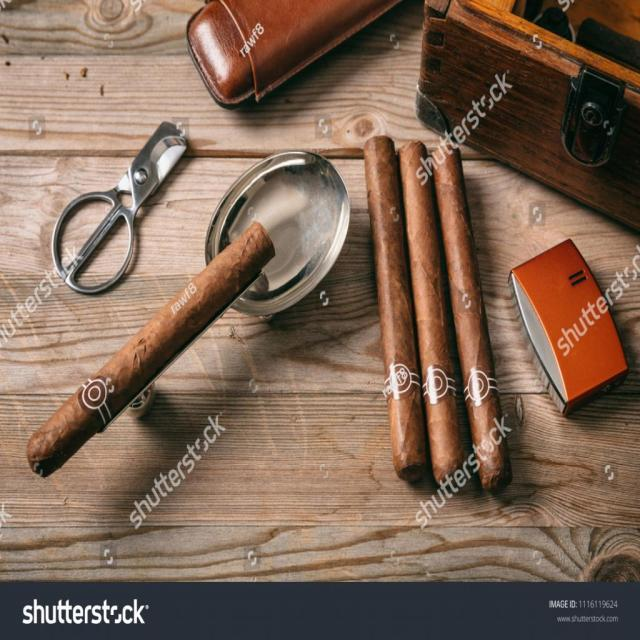smoking: (12, 216, 287, 487), (351, 124, 518, 506)
